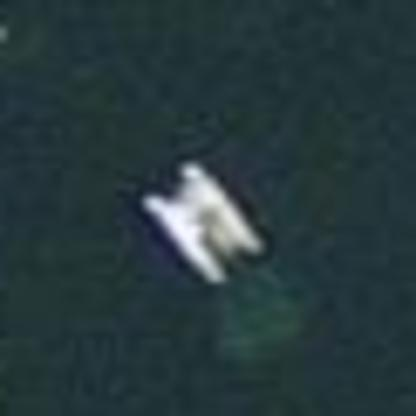ship: (128, 146, 283, 296)
